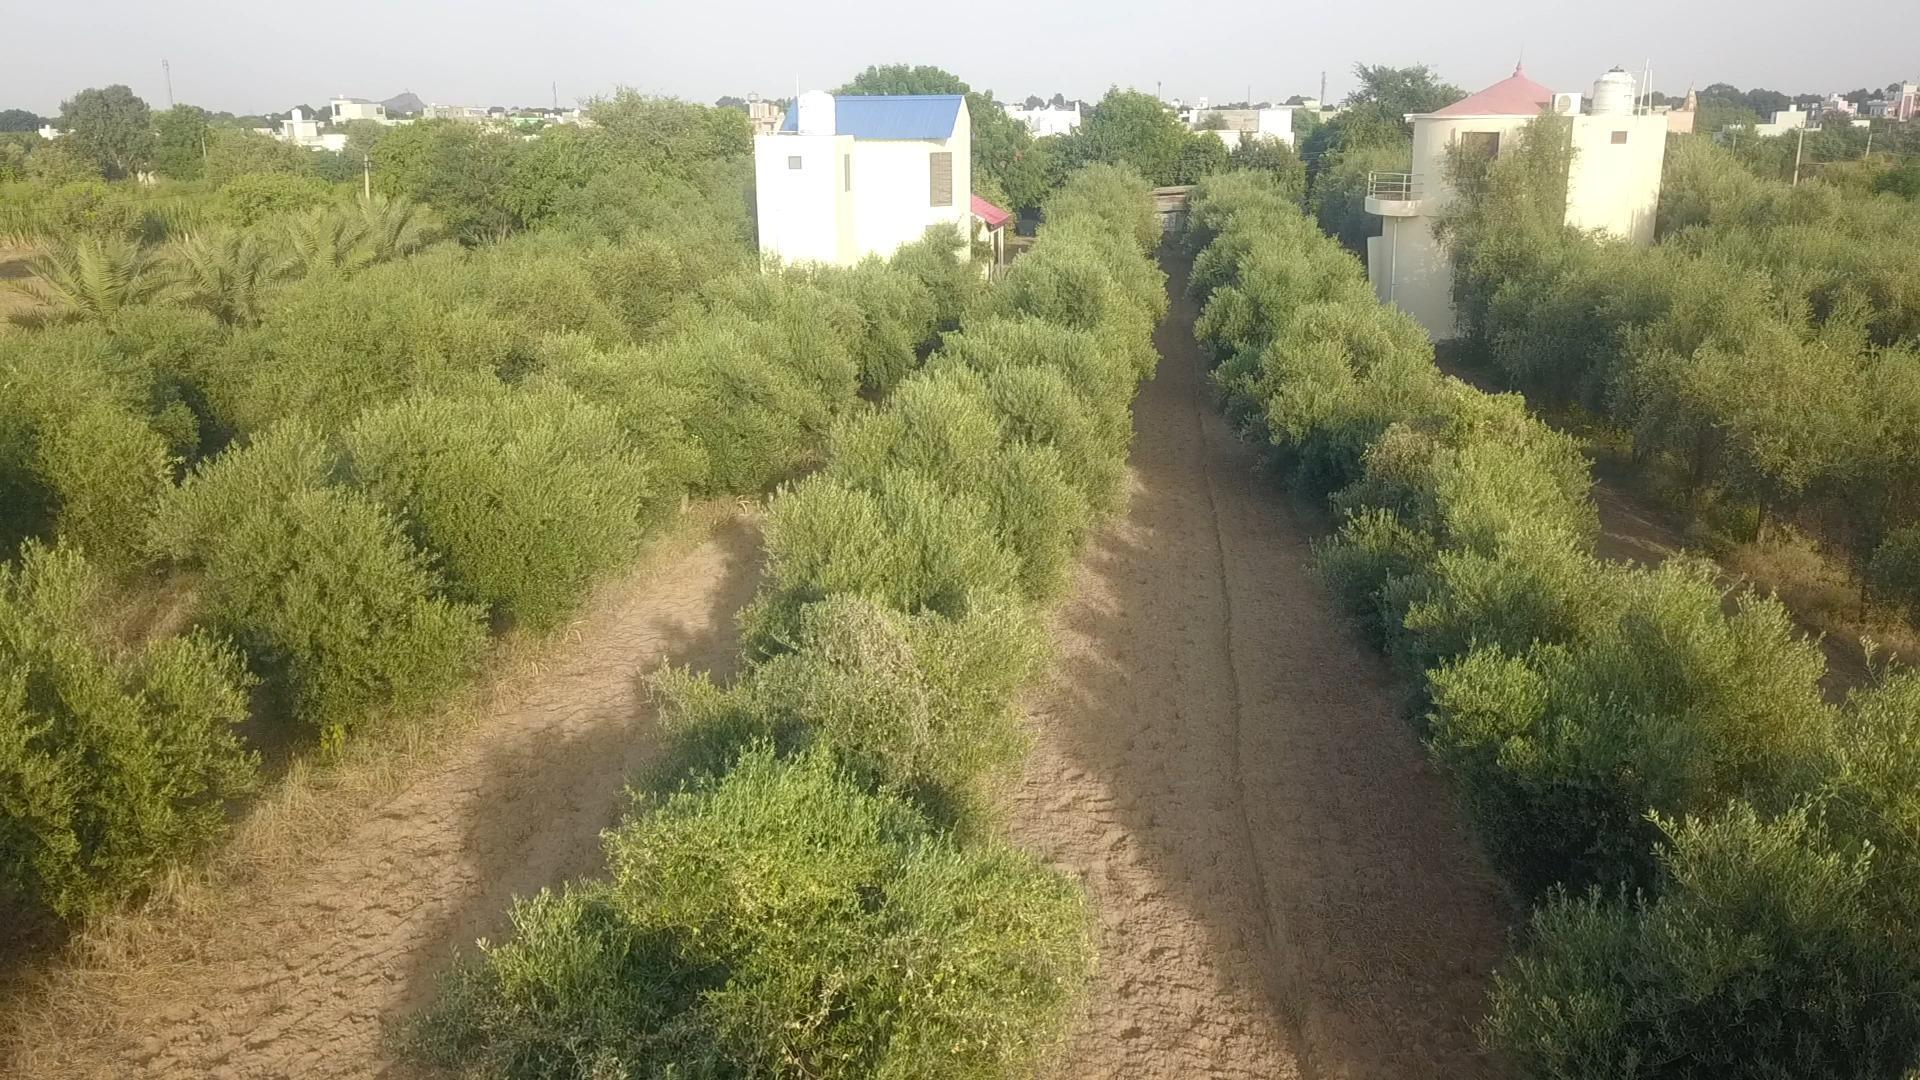canopy: (1189, 173, 1919, 1079), (483, 165, 1168, 1079), (0, 258, 928, 922), (1487, 245, 1919, 605)
road: (5, 509, 758, 1079), (1000, 302, 1503, 1079)
